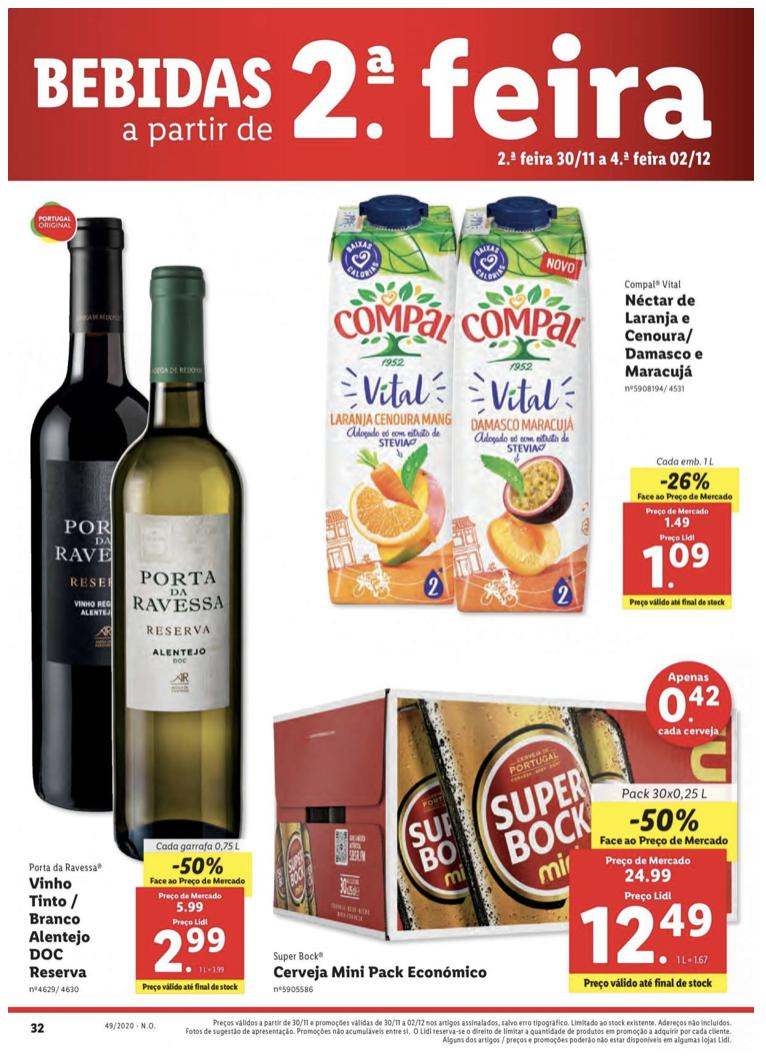name: (16, 874, 97, 982), (620, 290, 709, 381), (267, 961, 491, 981)
price: (570, 889, 729, 974), (133, 914, 246, 983), (622, 531, 731, 597)
product: (9, 205, 264, 998), (308, 191, 748, 627), (266, 641, 747, 1003)
promotion: (625, 803, 701, 836), (654, 468, 713, 494), (168, 853, 229, 877)
